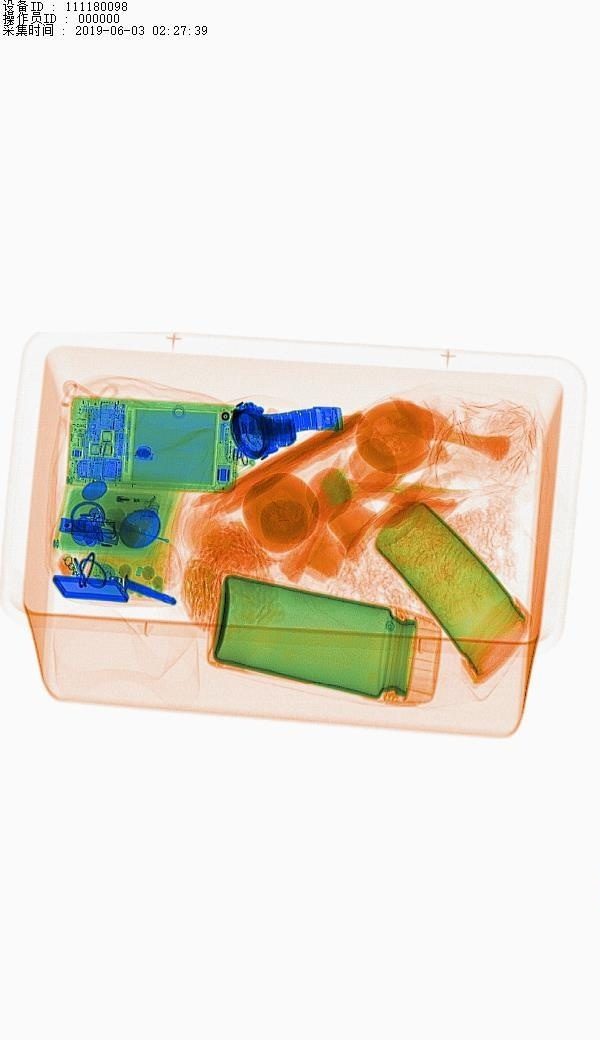NonmetallicFire: (73, 490, 176, 532)
